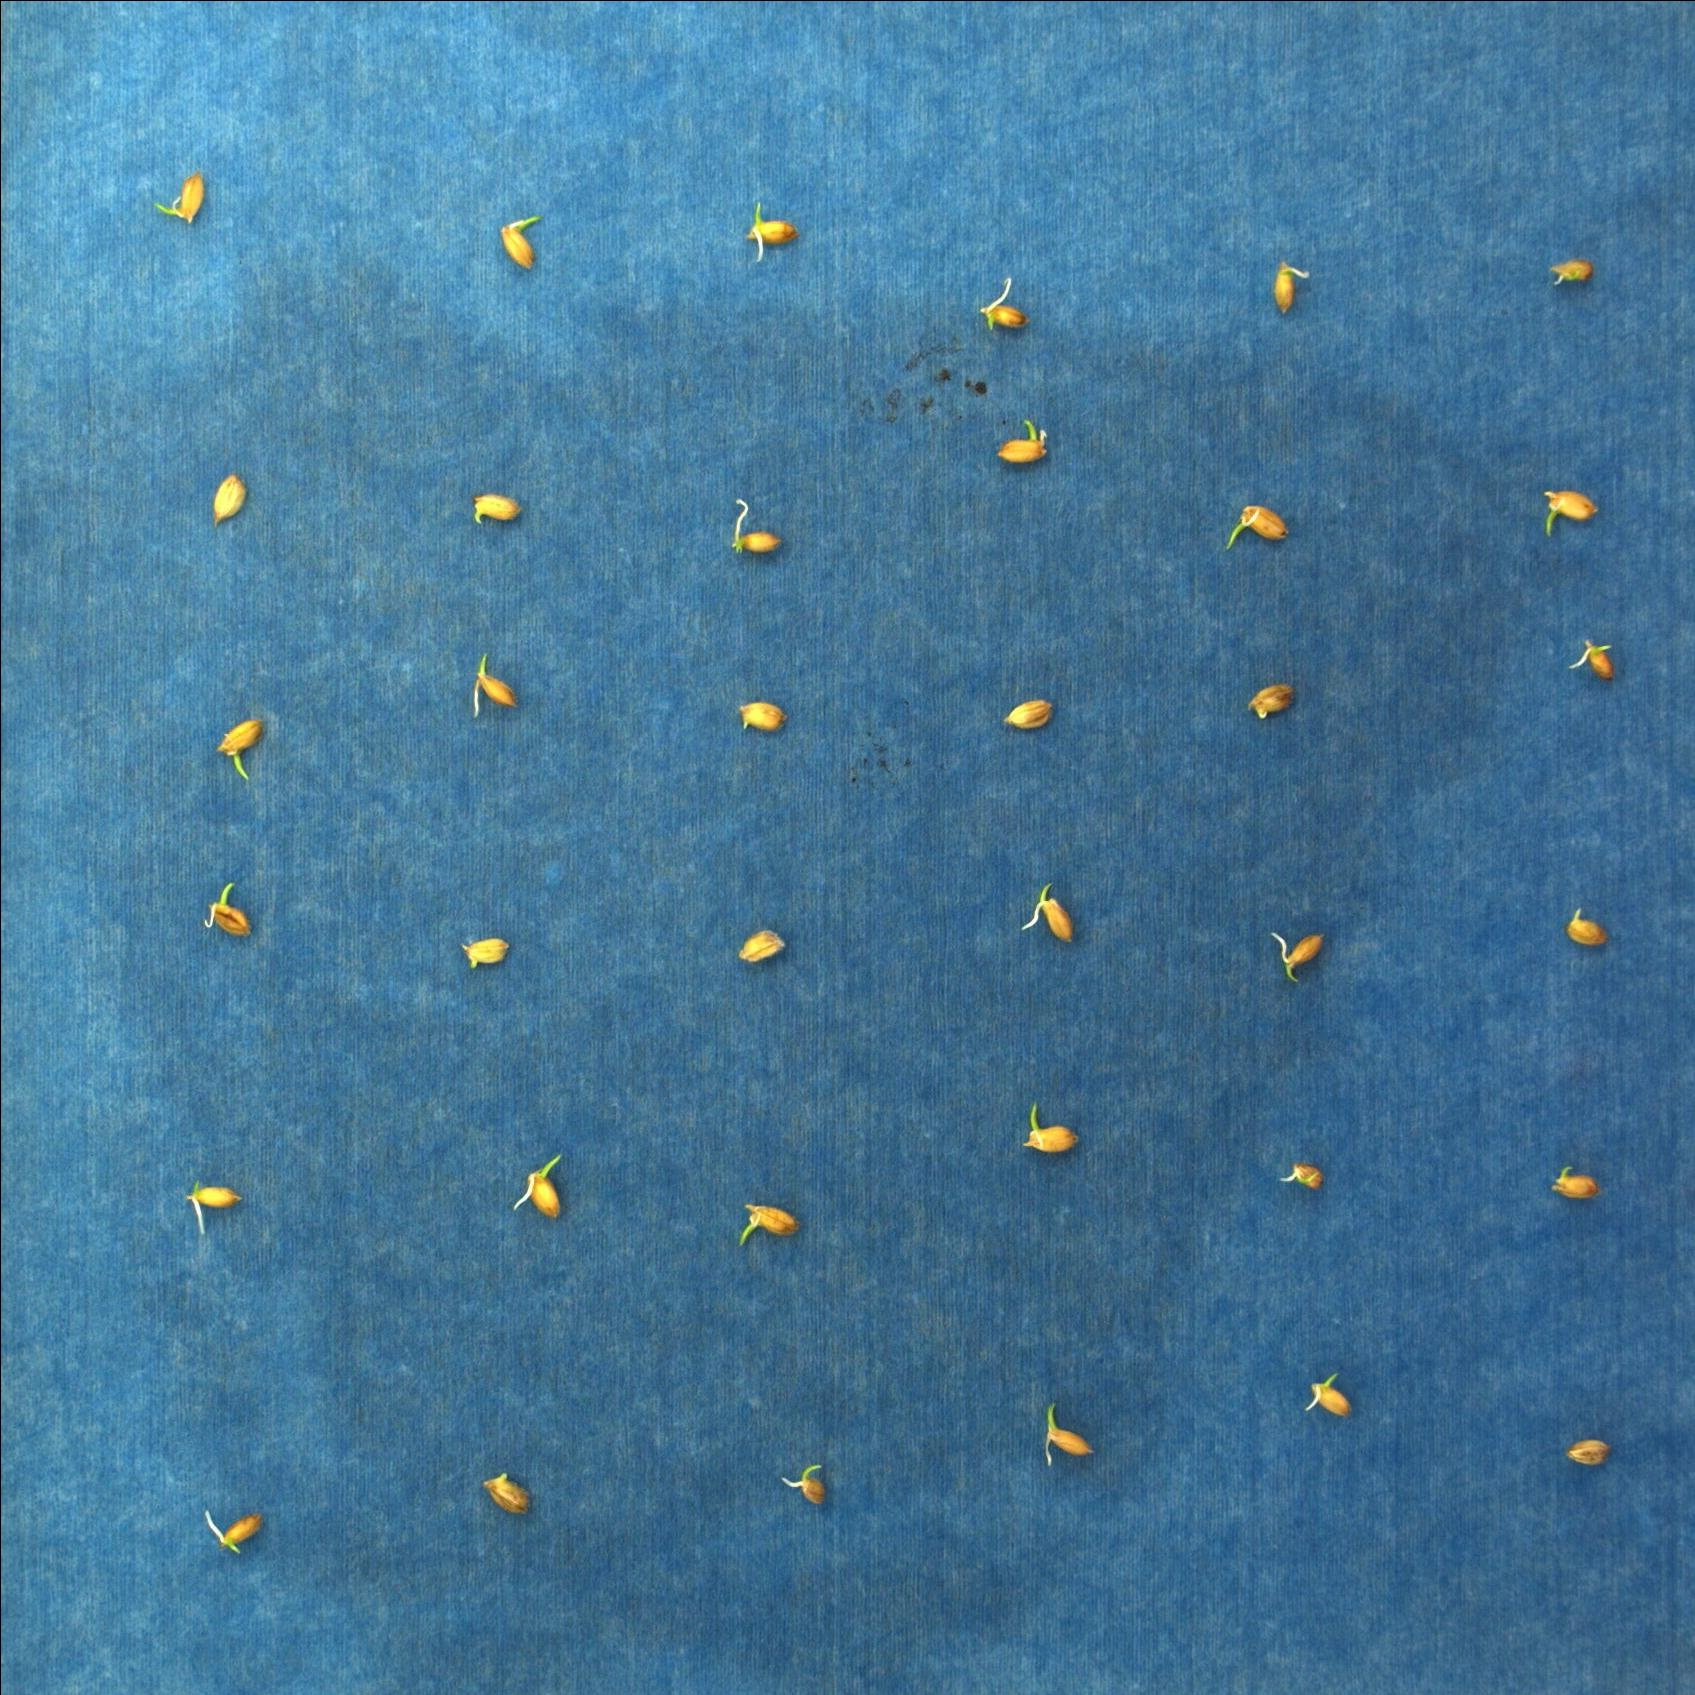not sprout: (1018, 885, 1079, 947), (183, 1173, 241, 1237), (1267, 927, 1326, 983), (200, 1503, 261, 1557), (730, 500, 785, 554), (990, 418, 1051, 466), (979, 273, 1028, 331), (1000, 695, 1057, 736), (480, 1470, 532, 1513), (1271, 255, 1310, 312), (206, 473, 247, 526), (453, 934, 512, 970), (1568, 632, 1614, 675), (1302, 1372, 1347, 1414), (736, 695, 782, 736), (737, 927, 785, 965), (1565, 906, 1607, 950), (470, 494, 523, 528), (1563, 1434, 1613, 1470), (1248, 683, 1295, 720), (1279, 1161, 1330, 1191), (1546, 255, 1594, 284), (1552, 1166, 1594, 1198)
sprout: (511, 1152, 568, 1215), (469, 652, 522, 719), (1040, 1402, 1094, 1464), (200, 880, 251, 944), (1538, 487, 1600, 539), (217, 719, 265, 784), (1222, 498, 1285, 546), (494, 211, 543, 272), (747, 200, 795, 261), (736, 1198, 799, 1243), (1021, 1101, 1077, 1152), (157, 172, 205, 227), (782, 1464, 827, 1504)
